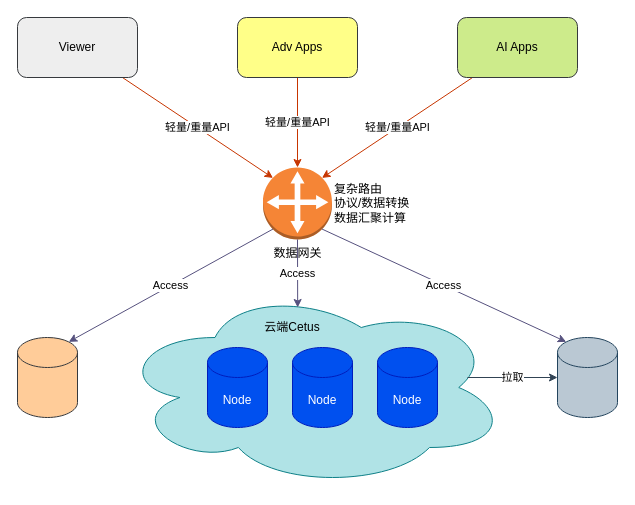
This 635x505 diagram has some shape labels left out. The shapes that lost their labels are listed below. From the top down, each one's centre as x and y in pixels, then its label:
At [47,377]: "边缘 Cetus".
At [587,377]: "三方数据源".
